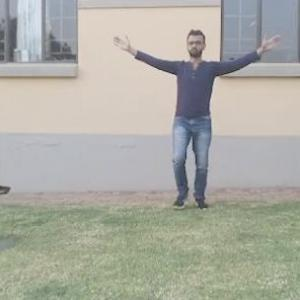takeoff: (112, 25, 275, 210)
